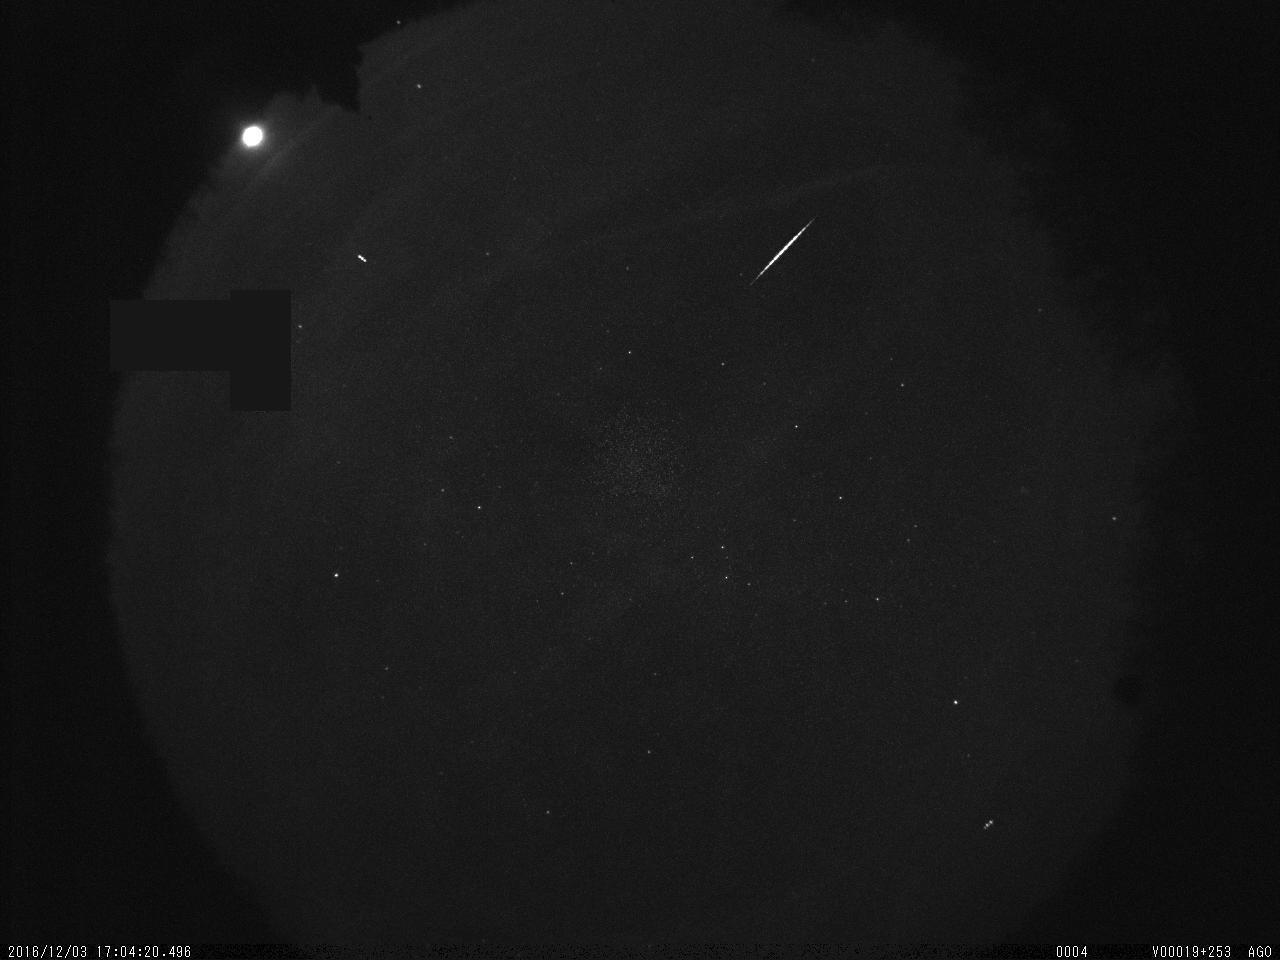Meteor: (747, 214, 816, 287)
